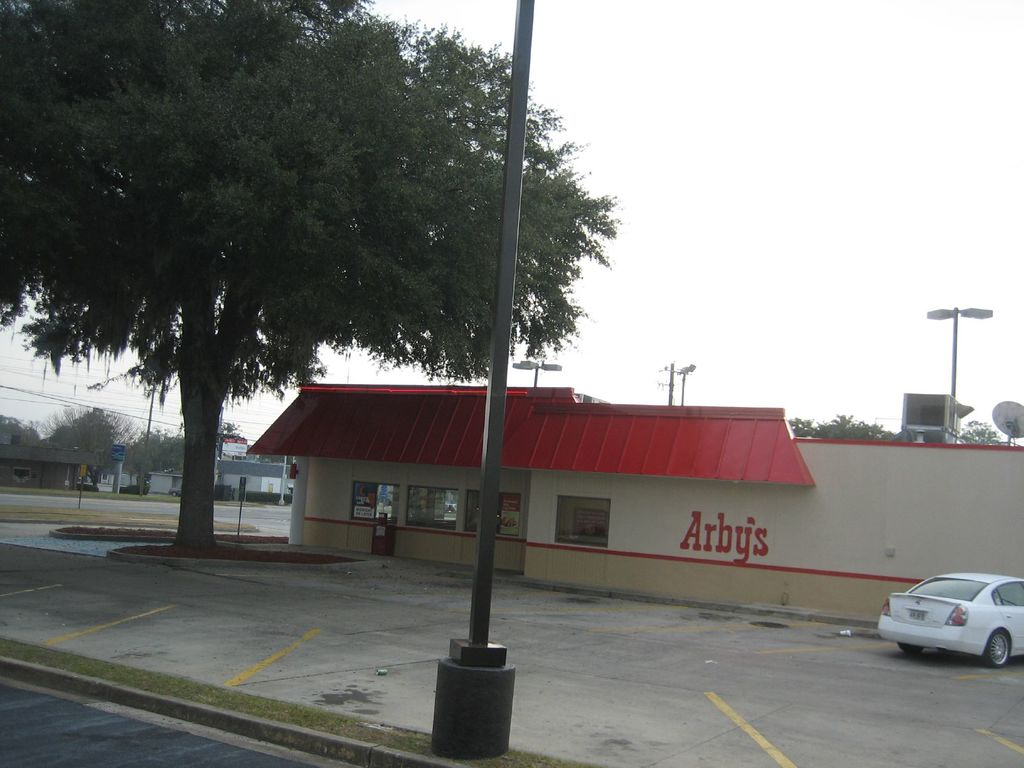Car: (873, 570, 1023, 669)
